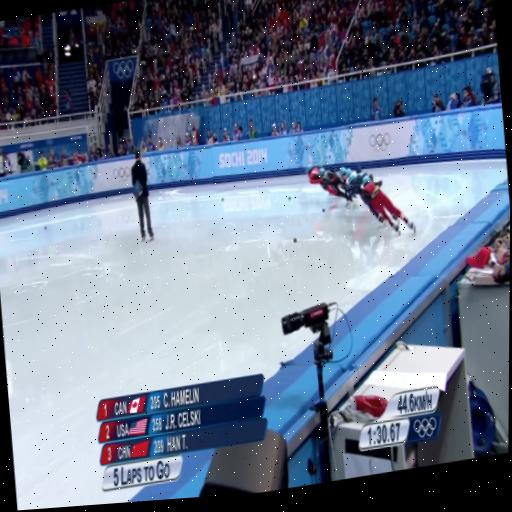Skater: (362, 181, 415, 233), (307, 166, 349, 200), (307, 166, 347, 199), (341, 167, 373, 207), (359, 175, 384, 223), (320, 168, 349, 200), (344, 169, 373, 197), (307, 165, 323, 184)
